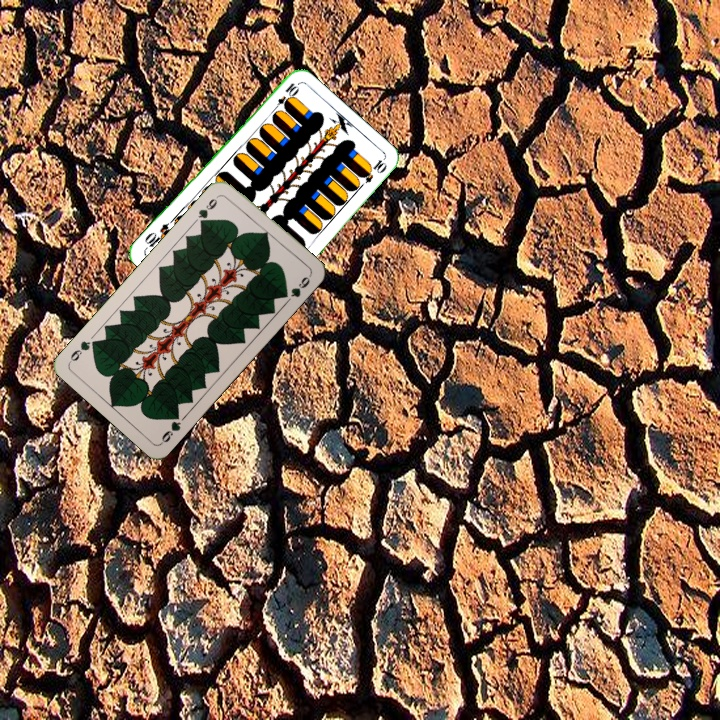E10: (269, 79, 300, 115)
G9: (194, 191, 222, 228), (157, 408, 184, 446)
